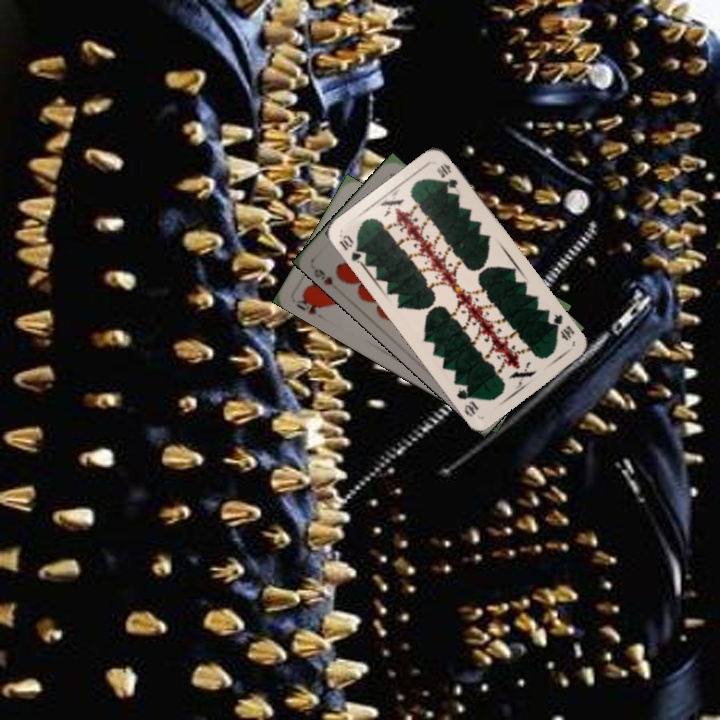G10: (335, 231, 369, 267), (547, 310, 577, 343)
H9: (310, 264, 335, 288)
HO: (291, 292, 327, 322)
